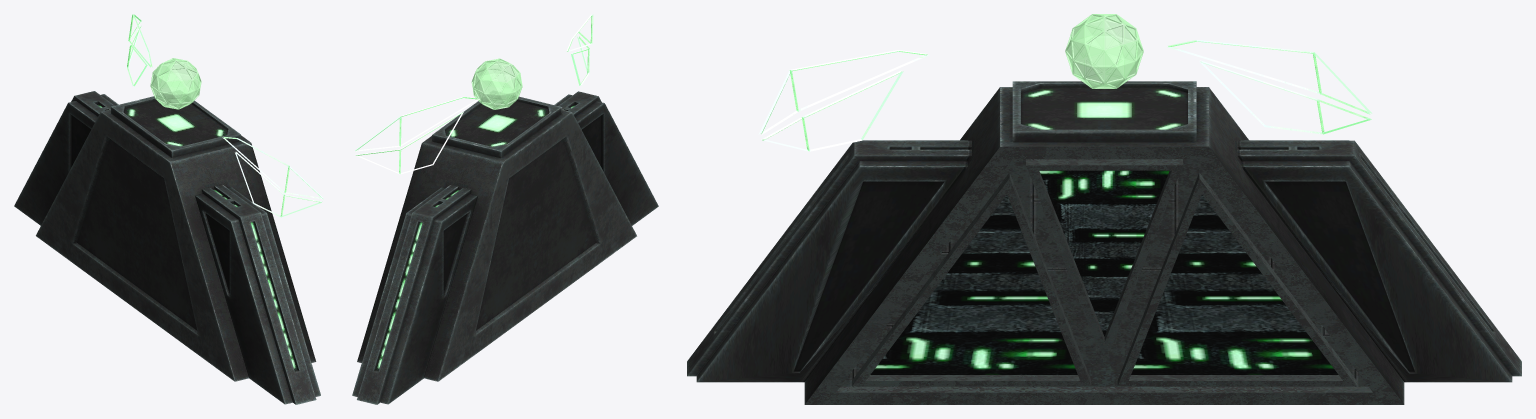
Rendered from PrototypeCockpit5.fbx.
3 renders of one model, left to right at view 1: azimuth 30°, elevation 25°; view 2: azimuth 150°, elevation 25°; view 3: azimuth 270°, elevation 25°, orthographic. The views are drawn at different scales.
Parts seen in each view (by area): view 1: Precursor_computer_terminal.001, Icosphere.001, Cockpit Upper HUD.001, Cockpit Lower HUD.001; view 2: Precursor_computer_terminal.001, Icosphere.001, Cockpit Lower HUD.001, Cockpit Upper HUD.001; view 3: Precursor_computer_terminal.001, Icosphere.001, Cockpit Upper HUD.001, Cockpit Lower HUD.001.
Part boxes in pixels (box(x1,y1,x2,y2)): Precursor_computer_terminal.001: box(14, 91, 320, 404); Icosphere.001: box(150, 58, 201, 109); Cockpit Upper HUD.001: box(128, 14, 323, 199); Cockpit Lower HUD.001: box(127, 26, 321, 217); Precursor_computer_terminal.001: box(352, 91, 658, 404); Icosphere.001: box(471, 58, 522, 109); Cockpit Lower HUD.001: box(355, 36, 589, 174); Cockpit Upper HUD.001: box(354, 14, 593, 151); Precursor_computer_terminal.001: box(687, 81, 1521, 404); Icosphere.001: box(1065, 14, 1143, 88); Cockpit Upper HUD.001: box(758, 40, 1372, 135); Cockpit Lower HUD.001: box(761, 60, 1371, 151).
Bounding box in the file's own units: 47.15 × 113 × 237.
